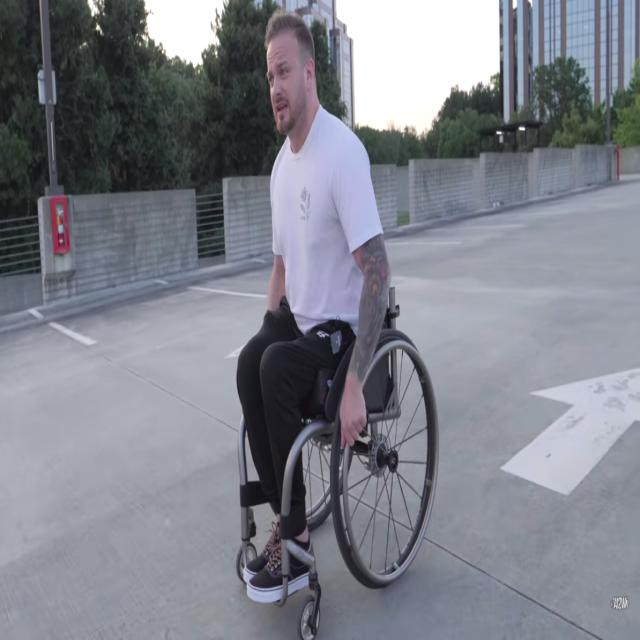wheelchairs: (232, 281, 448, 640)
